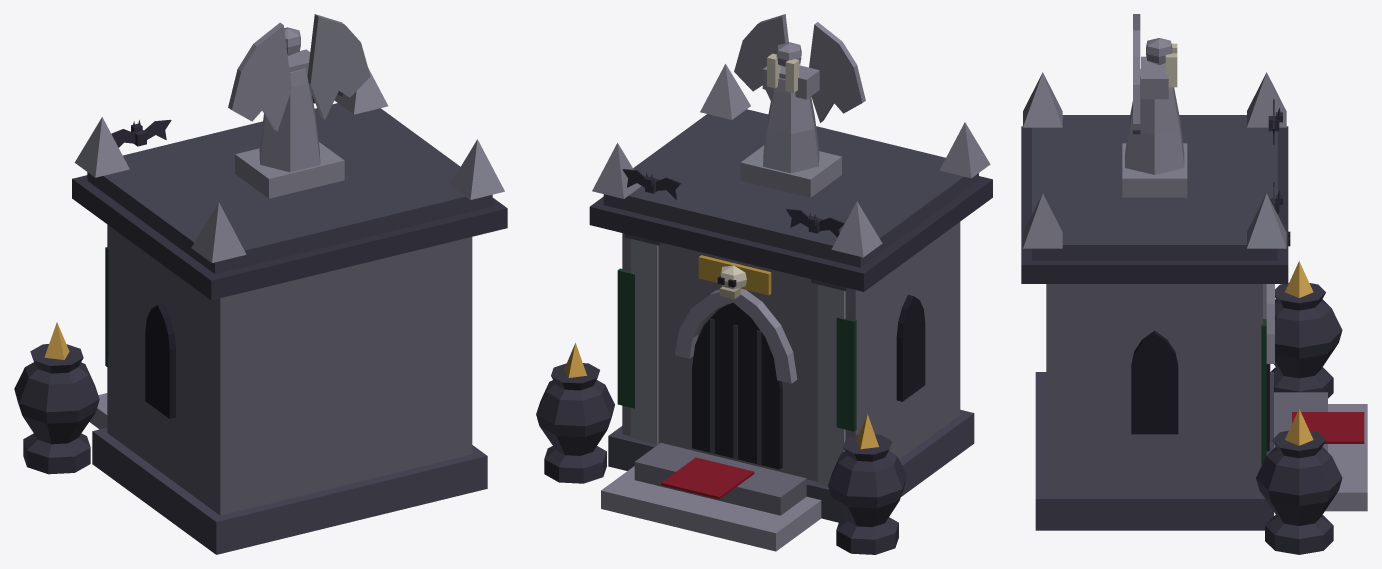
The model's file is Decor_VampireCrypt_Tomb.fbx.
3 views of the same model, side by side, from view 1: azimuth 30°, elevation 25°; view 2: azimuth 150°, elevation 25°; view 3: azimuth 270°, elevation 25° (orthographic). The views are drawn at different scales.
Visible parts, largest first — view 1: Tomb_Body; view 2: Tomb_Body; view 3: Tomb_Body.
Boxes of the visible parts, x1,y1,x2,y2 form: Tomb_Body: (14,14,507,554); Tomb_Body: (536,14,992,554); Tomb_Body: (1021,14,1367,554).
Bounding box in the file's own units: 12 × 13.6 × 9.6.
